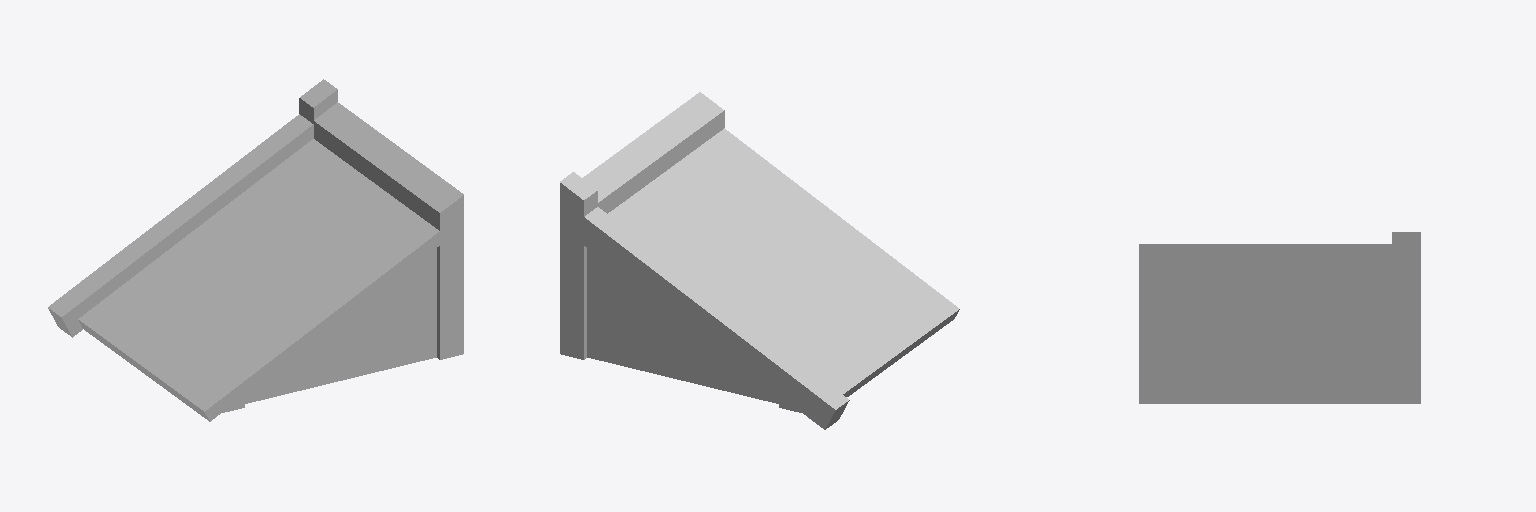
File: roofLeft.obj
3 views of the same model, side by side, from view 1: azimuth 30°, elevation 25°; view 2: azimuth 150°, elevation 25°; view 3: azimuth 270°, elevation 25° (orthographic).
Visible parts, largest first — view 1: roofLeft; view 2: roofLeft; view 3: roofLeft.
Part boxes in pixels (x1,y1,x2,y2): roofLeft: (48, 79, 463, 421); roofLeft: (560, 92, 959, 429); roofLeft: (1139, 232, 1420, 403).
Bounding box in the file's own units: 1.13 × 0.7206 × 1.